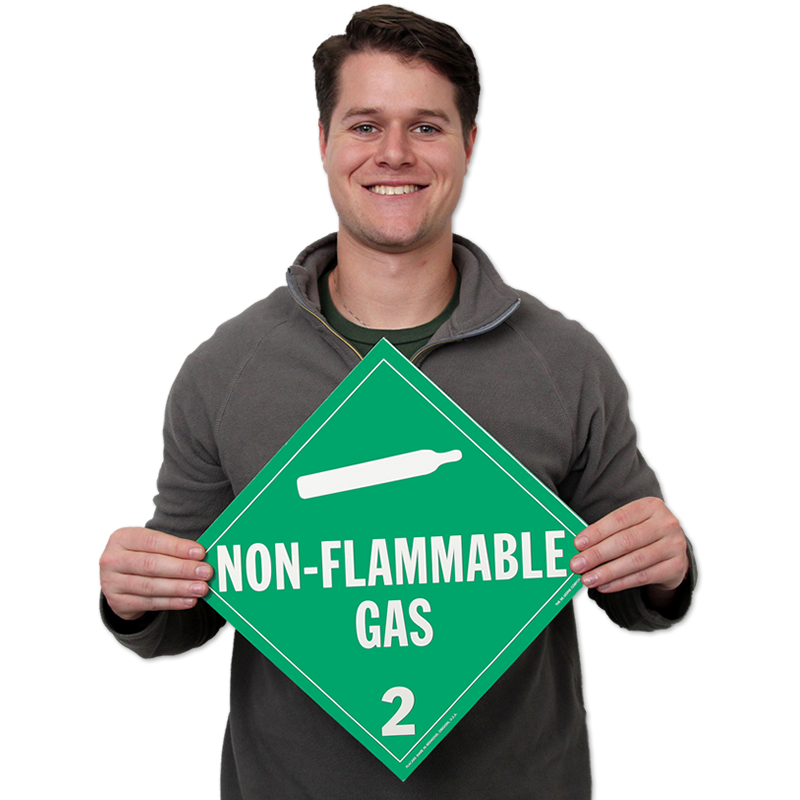NonFlammableGas: (196, 342, 592, 780)
